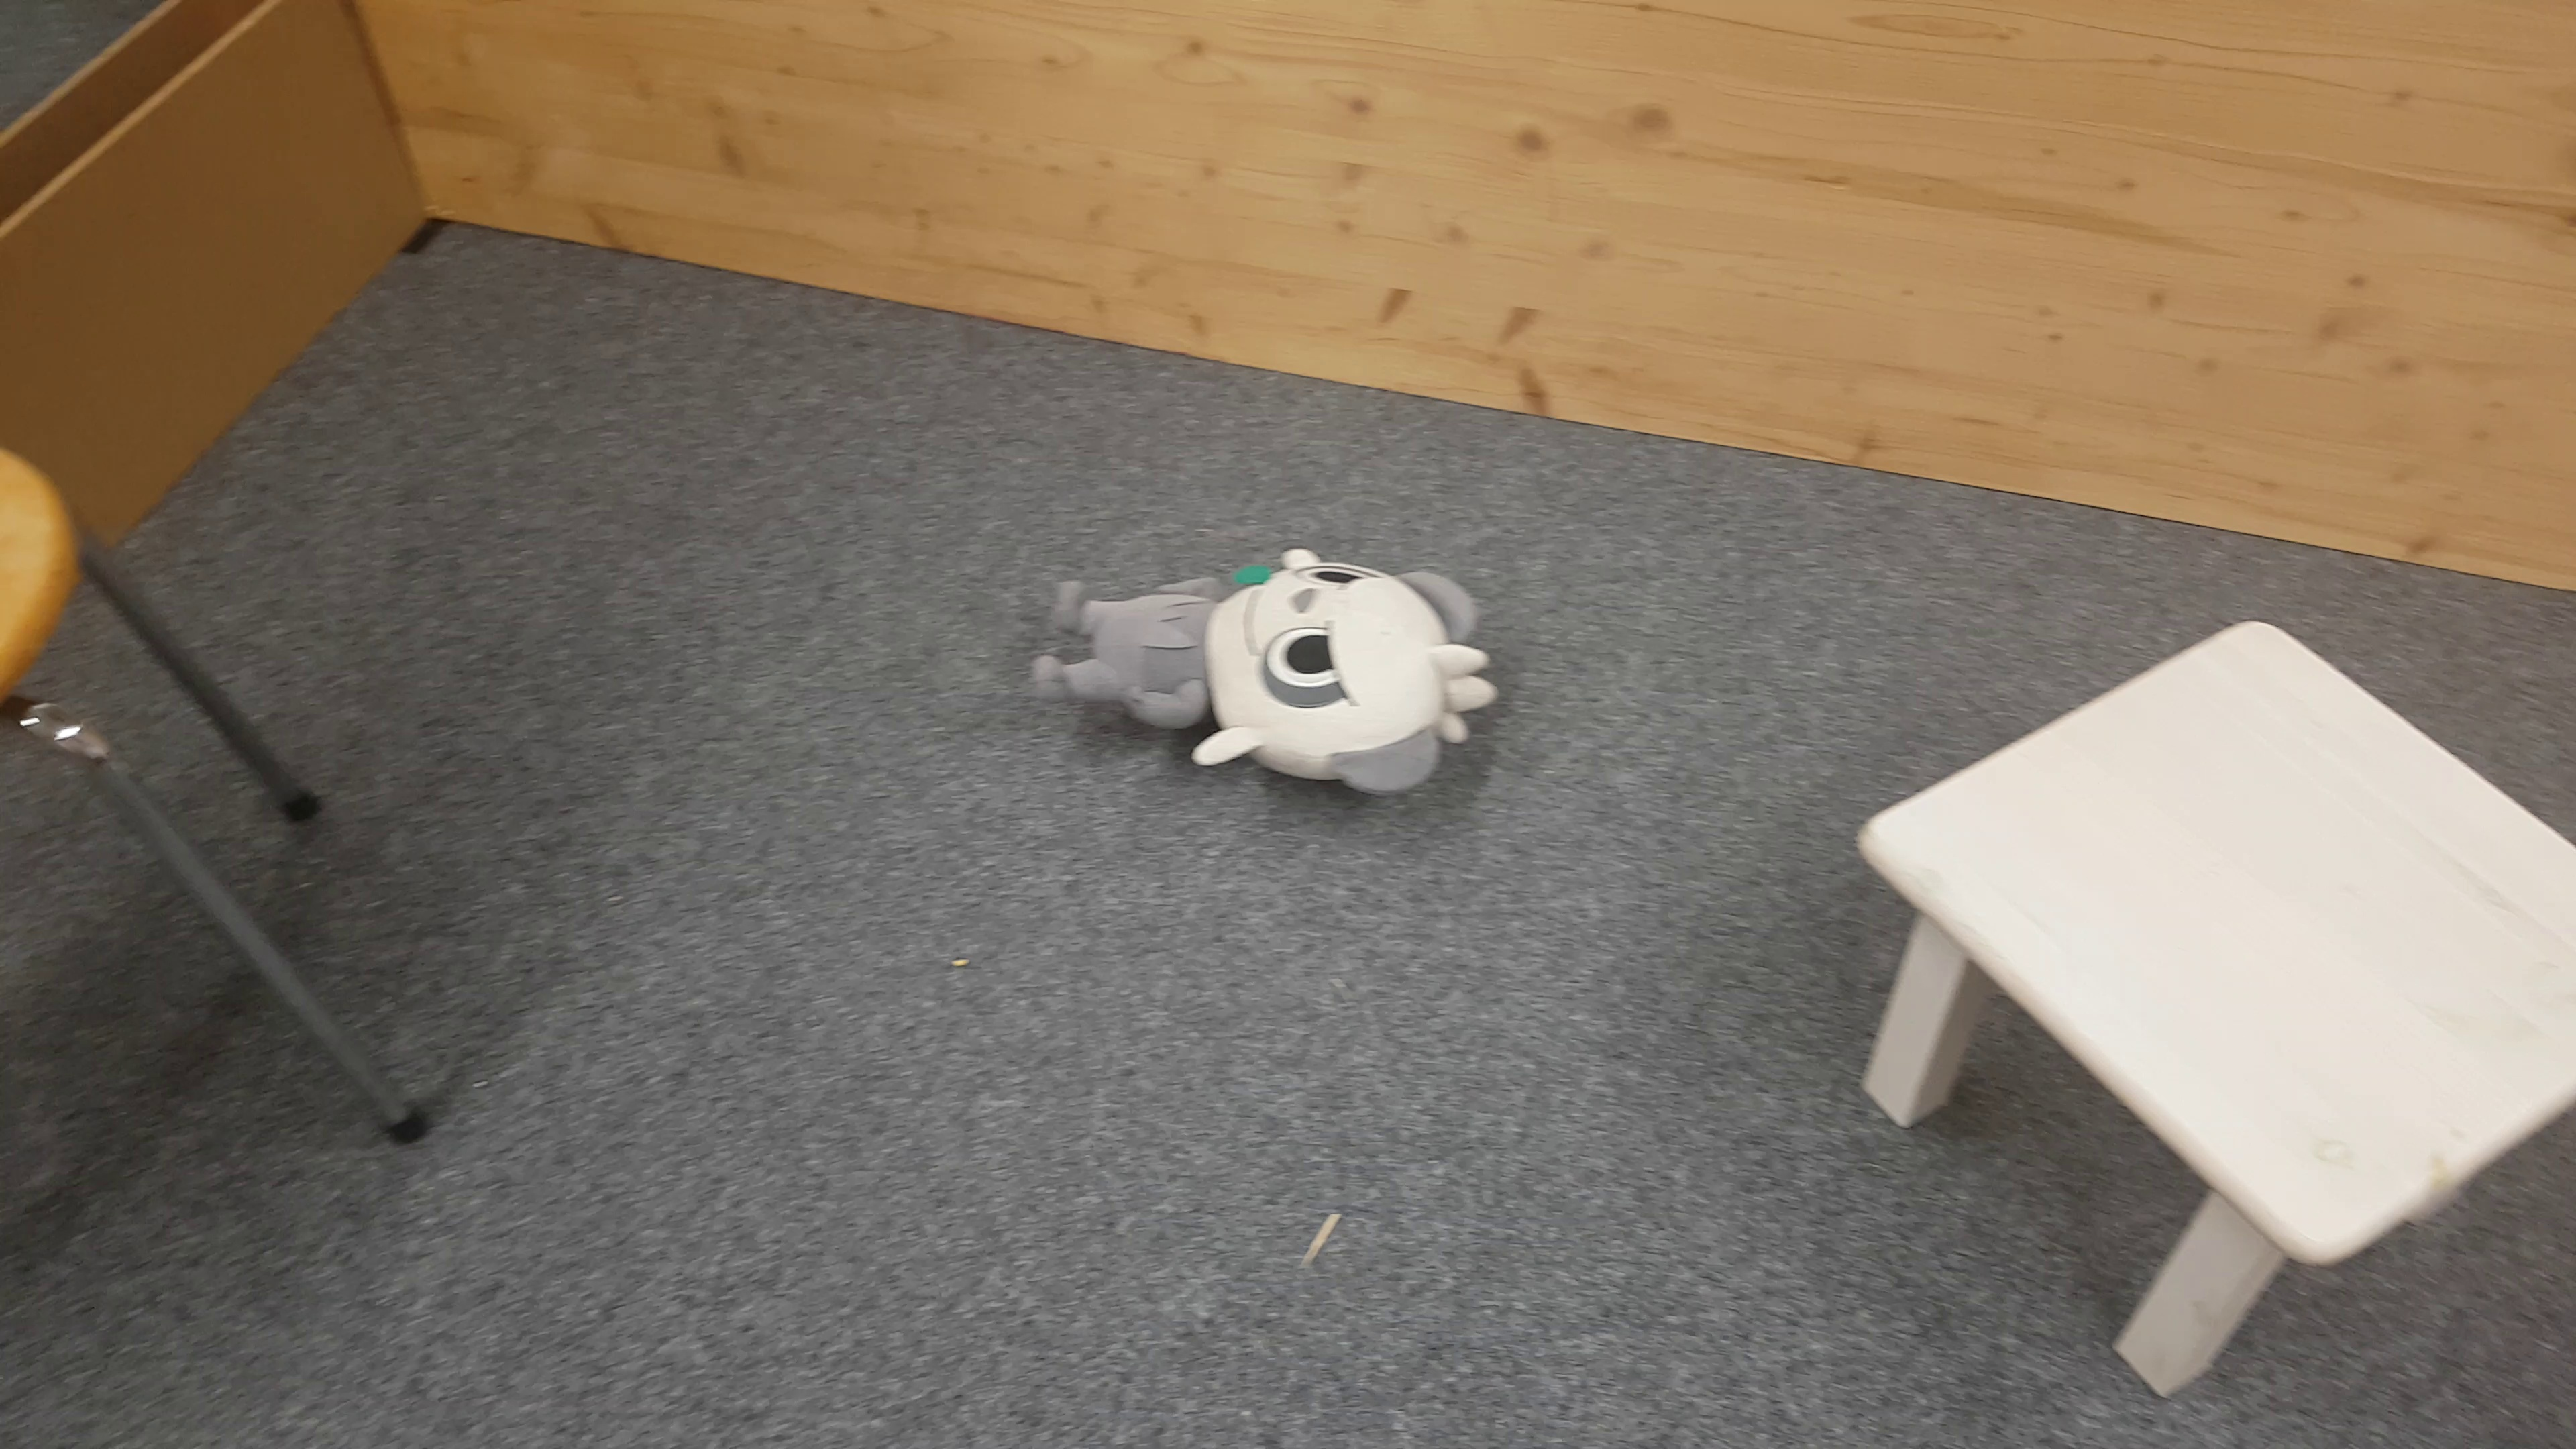grasp: (1021, 541, 1495, 805)
